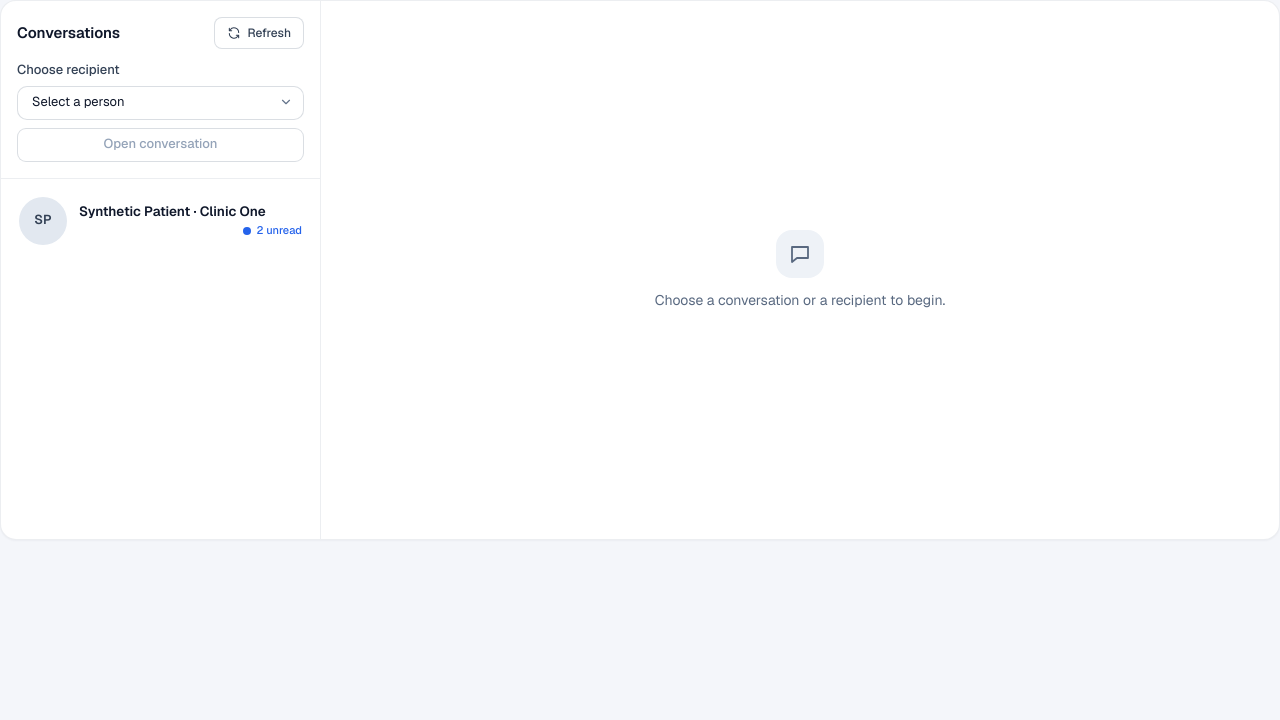
Scenario: non-blocking message translation › keeps the original when the safety check fails or the request errors
What coordinates should you click on to do the following:
click the button "SP Synthetic Patient · Clinic One 2 unread"
I would click on:
 (160, 221)
Its box is [9,187,312,255].
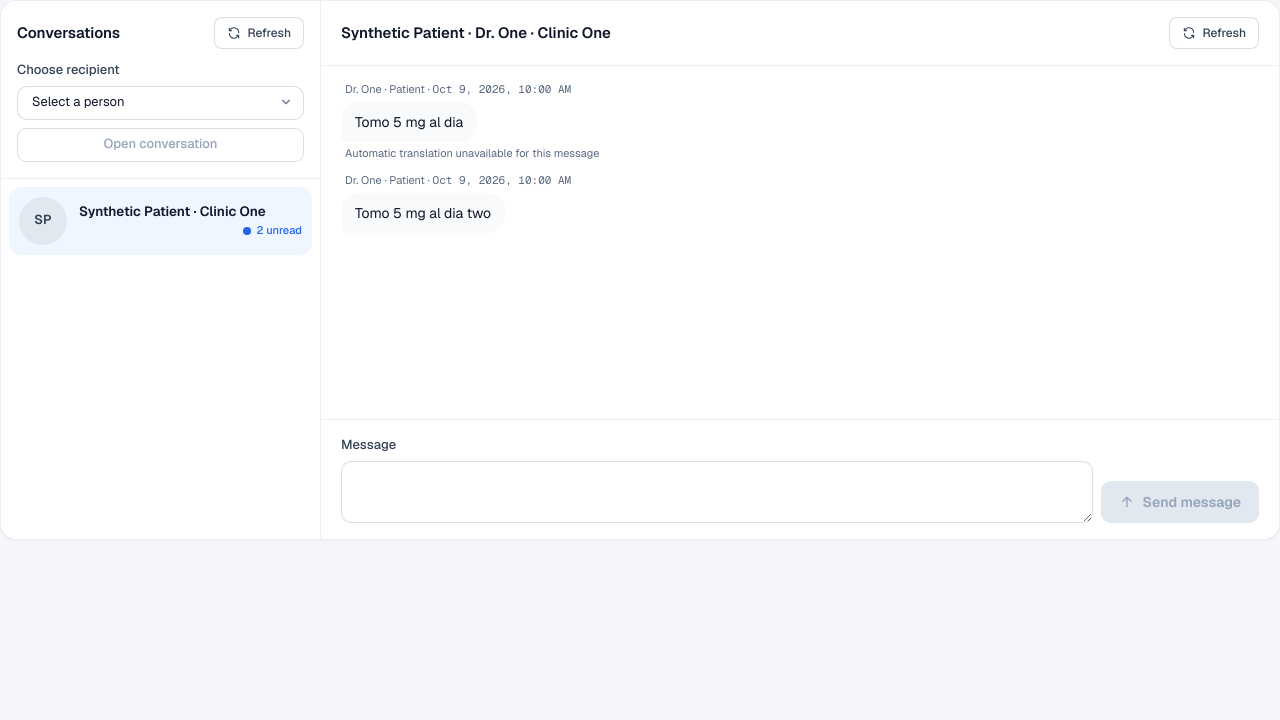
expect the text "Automatic translation unavailable for this message" is shown: met, box [341,146,603,161]
expect the text "Tomo 5 mg al dia" is shown: met, box [341,102,477,142]
expect the text "Tomo 5 mg al dia two" is shown: met, box [341,193,505,233]
